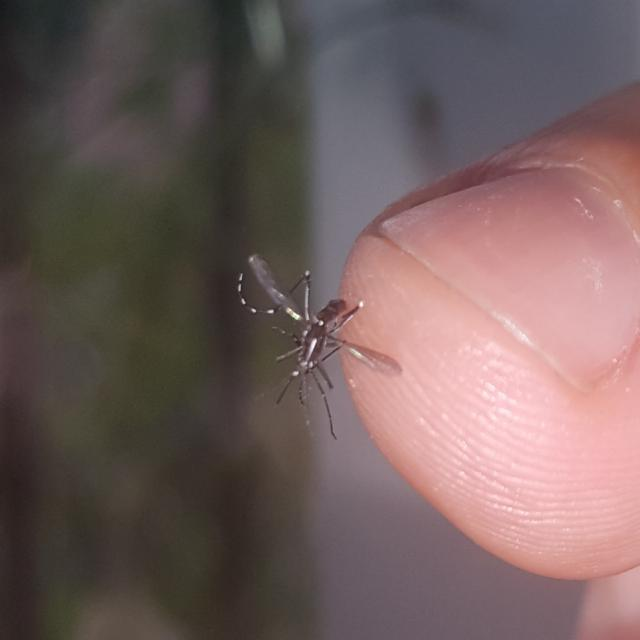albopictus: (230, 241, 400, 442)
